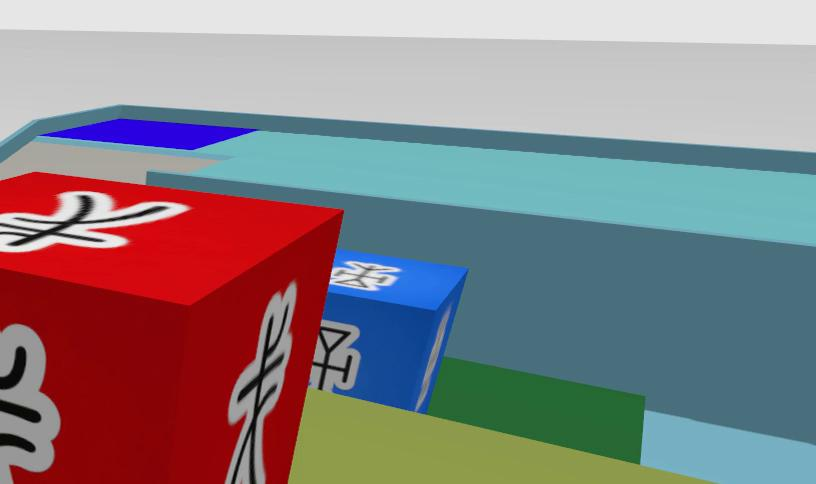KFS_FAKE: (0, 173, 342, 483), (224, 282, 297, 483), (306, 226, 421, 341), (0, 190, 189, 252), (0, 324, 59, 483), (309, 320, 360, 391)
KFS_REAL: (0, 0, 815, 483), (309, 248, 467, 412), (312, 320, 360, 390), (331, 260, 400, 291)
